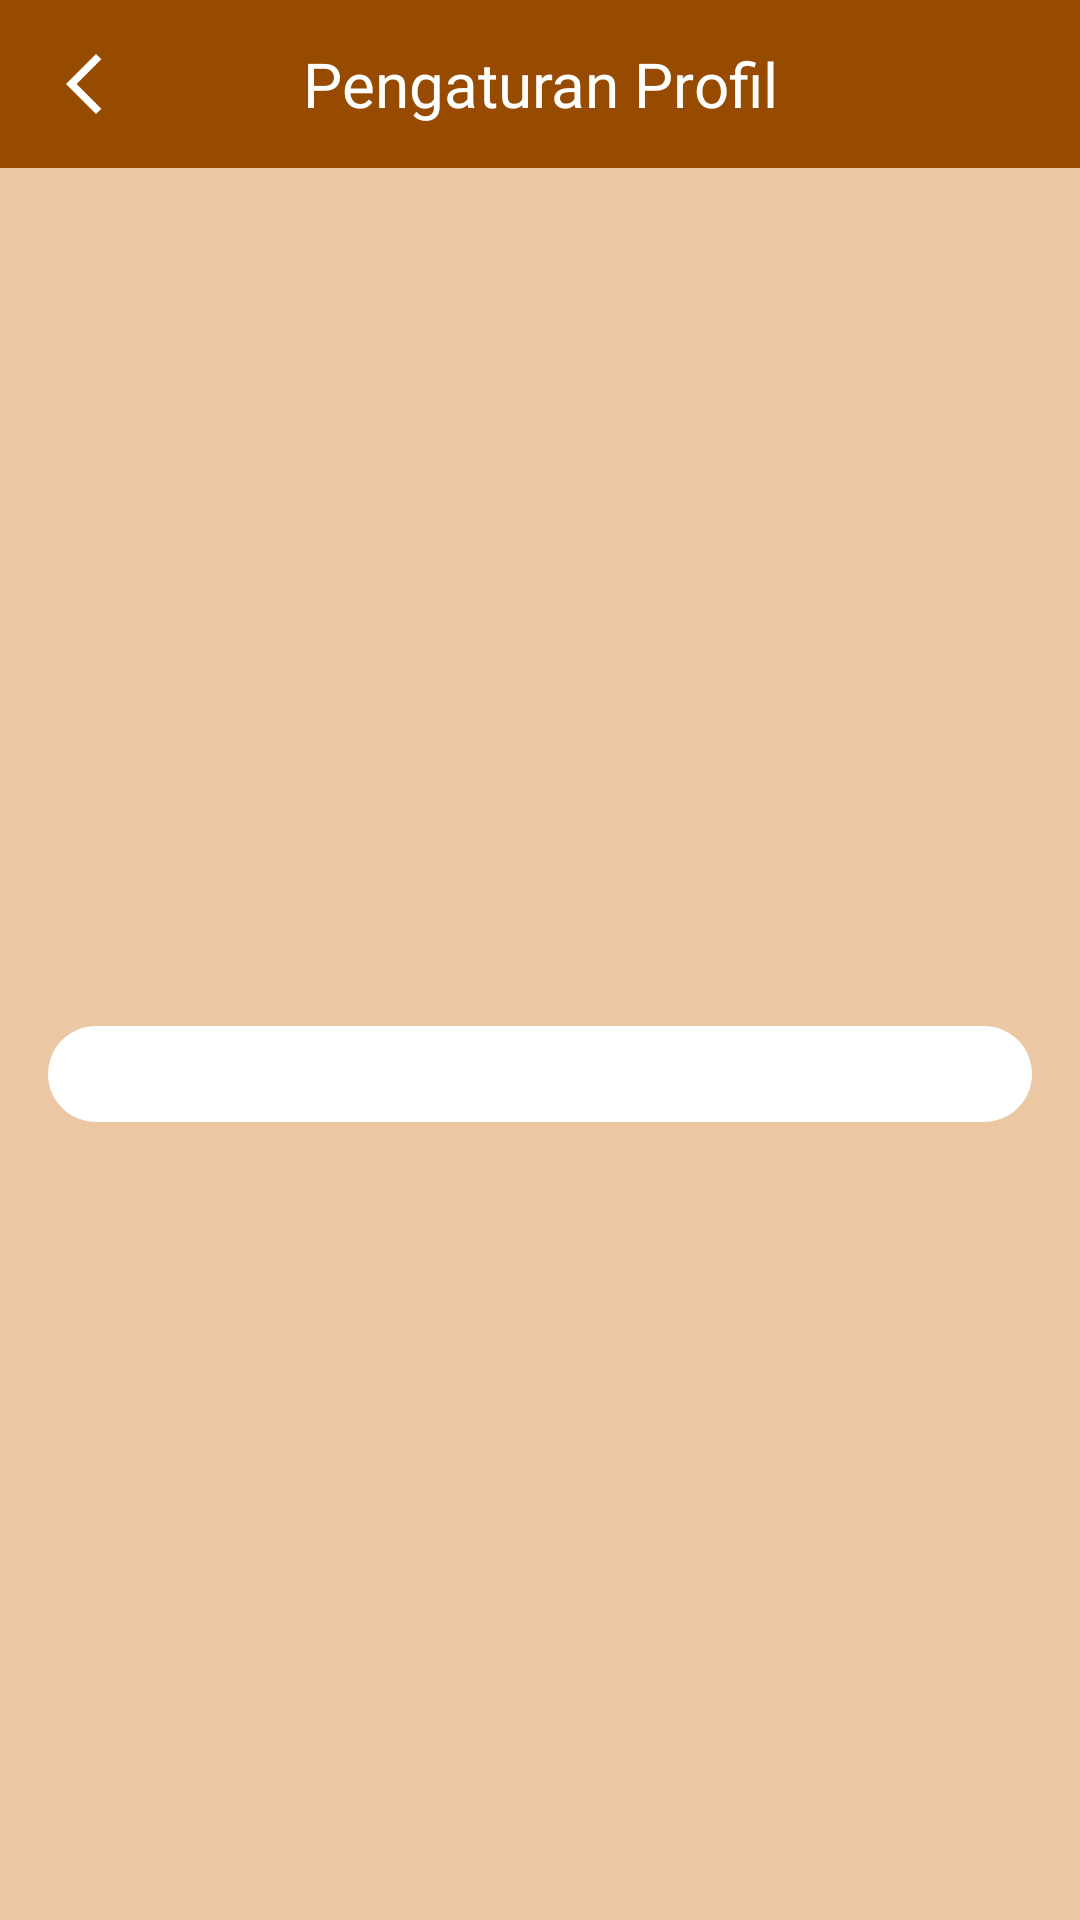

Screen size 1080 x 1920. Icon name, then its box in pixels as (x1, y1, x2, y2):
back: (66, 54, 101, 114)
